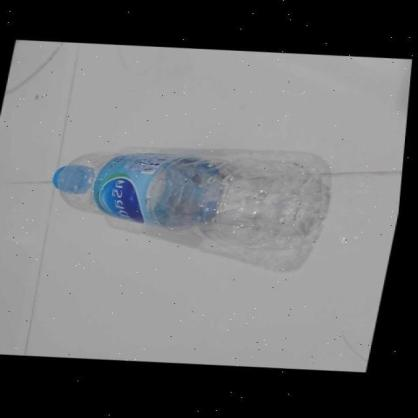bottle: (49, 144, 332, 258)
cap: (54, 160, 90, 195)
label: (94, 149, 220, 232)
